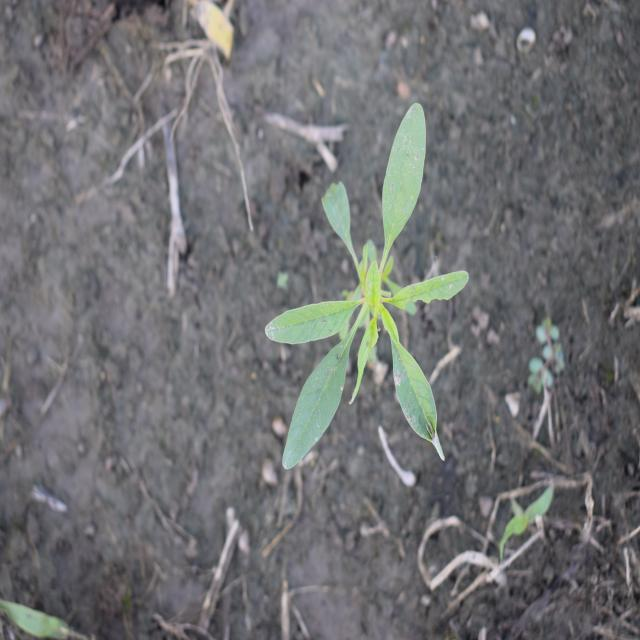Waterhemp: (263, 100, 470, 472)
